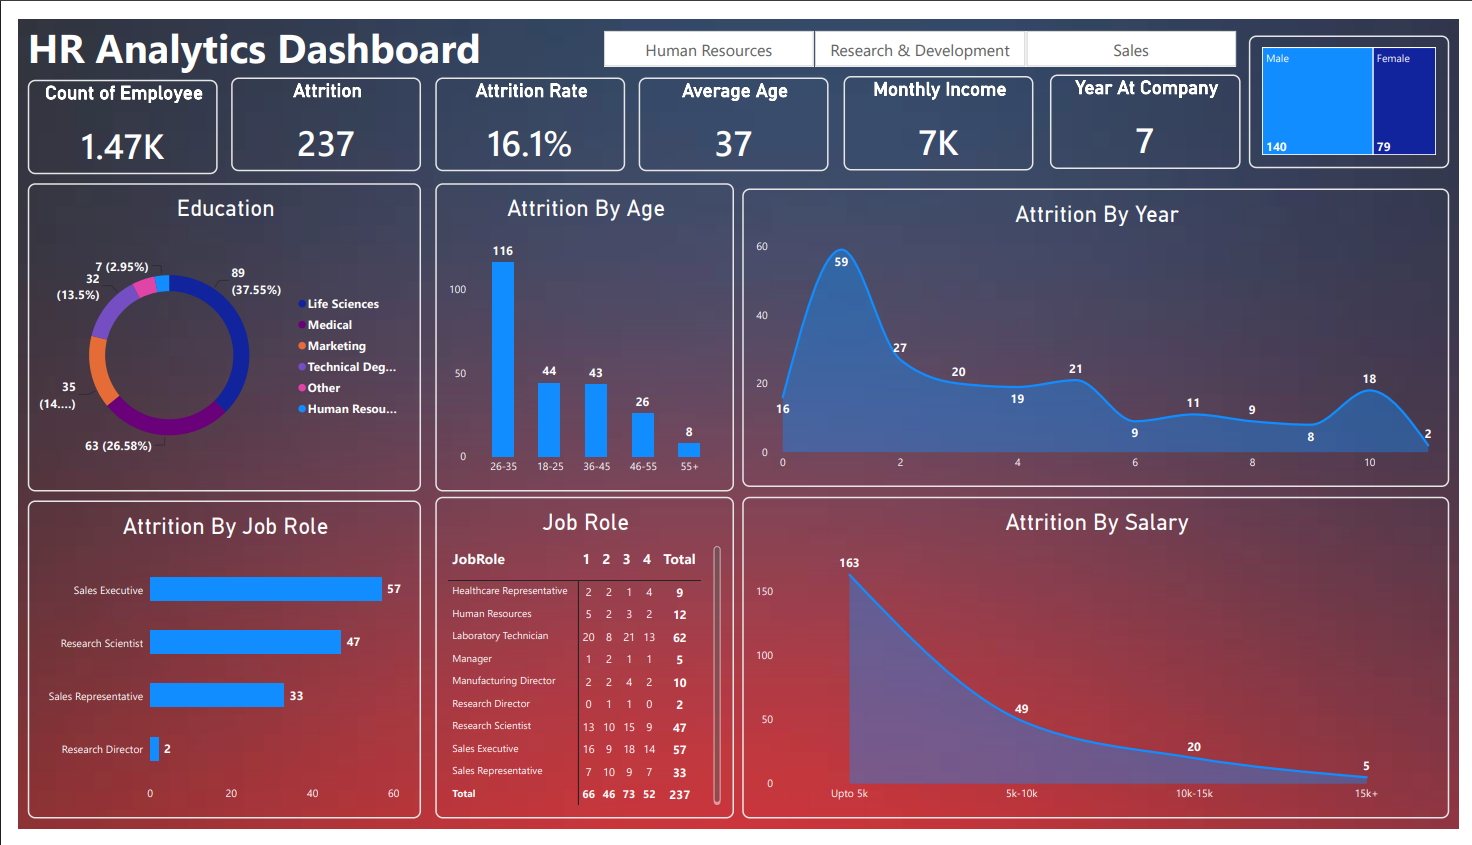

The dashboard page shown, as its layout file describes it:
{"tool":"powerbi","page":{"name":"Page 1","canvas":[1920,1080],"ordinal":0},"visuals":[{"type":"cardVisual","title":"Count of Employee","fields":{"Data":["CountNonNull(HR_Analytics.EmpID)"]},"box":[12.7,81.4,253.2,125.6],"z":0},{"type":"cardVisual","title":"Attrition","fields":{"Data":["Sum(HR_Analytics.AttritionCount)"]},"box":[284.1,77.8,253.2,125.6],"z":1000},{"type":"cardVisual","title":"Attrition Rate","fields":{"Data":["HR_Analytics.AttritionRate"]},"box":[555.6,77.8,253.2,125.6],"z":2000},{"type":"cardVisual","title":"Average Age","fields":{"Data":["HR_Analytics.AverageAge"]},"box":[827,77.8,253.2,125.6],"z":3000},{"type":"cardVisual","title":"Monthly Income","fields":{"Data":["Avg(HR_Analytics.MonthlyIncome)"]},"box":[1100.3,76,253.2,125.6],"z":4000},{"type":"cardVisual","title":"Year At Company","fields":{"Data":["Avg(HR_Analytics.YearsAtCompany)"]},"box":[1375.3,74.2,253.2,125.6],"z":5000},{"type":"donutChart","title":"Education","fields":{"Category":["HR_Analytics.EducationField"],"Y":["Sum(HR_Analytics.AttritionCount)"]},"box":[12.7,219,524.8,410.8],"z":6000},{"type":"textbox","box":[13.4,0,629.8,77.8],"z":7000},{"type":"columnChart","title":"Attrition By Age","fields":{"Category":["HR_Analytics.AgeGroup"],"Y":["Sum(HR_Analytics.AttritionCount)"]},"box":[555.6,219,398.1,410.8],"z":8000},{"type":"pivotTable","title":"Job Role","fields":{"Columns":["HR_Analytics.JobSatisfaction"],"Rows":["HR_Analytics.JobRole"],"Values":["Sum(HR_Analytics.AttritionCount)"]},"box":[555.6,637,398.1,428.9],"z":9000},{"type":"areaChart","title":"Attrition By Salary","fields":{"Category":["HR_Analytics.SalarySlab"],"Y":["Sum(HR_Analytics.AttritionCount)"]},"box":[964.5,637,942.8,428.9],"z":10000},{"type":"barChart","title":"Attrition By Job Role","fields":{"Category":["HR_Analytics.JobRole"],"Y":["Sum(HR_Analytics.AttritionCount)"]},"box":[12.7,642.4,524.8,423.5],"z":11000},{"type":"areaChart","title":"Attrition By Year","fields":{"Category":["HR_Analytics.YearsAtCompany"],"Y":["Sum(HR_Analytics.AttritionCount)"]},"box":[964.5,226.2,942.8,398.1],"z":12000},{"type":"treemap","title":"Attrition By Year","fields":{"Group":["HR_Analytics.Gender"],"Values":["Sum(HR_Analytics.AttritionCount)"]},"box":[1639.6,21.7,267.8,177.3],"z":13000},{"type":"slicer","fields":{"Values":["HR_Analytics.Department"]},"box":[743.8,0,913.9,81.4],"z":13001}]}

Visuals, with their boxes in screenshot pixels (x1, y1, x2, y2), scaled from the page's 1920x1080 canvas onto the 1472x845 screenshot:
"Count of Employee" cardVisual: <box>10,64,204,162</box>
"Attrition" cardVisual: <box>218,61,412,159</box>
"Attrition Rate" cardVisual: <box>426,61,620,159</box>
"Average Age" cardVisual: <box>634,61,828,159</box>
"Monthly Income" cardVisual: <box>844,59,1038,158</box>
"Year At Company" cardVisual: <box>1054,58,1249,156</box>
"Education" donutChart: <box>10,171,412,493</box>
textbox: <box>10,0,493,61</box>
"Attrition By Age" columnChart: <box>426,171,731,493</box>
"Job Role" pivotTable: <box>426,498,731,834</box>
"Attrition By Salary" areaChart: <box>739,498,1462,834</box>
"Attrition By Job Role" barChart: <box>10,503,412,834</box>
"Attrition By Year" areaChart: <box>739,177,1462,488</box>
"Attrition By Year" treemap: <box>1257,17,1462,156</box>
slicer - HR_Analytics.Department: <box>570,0,1271,64</box>
